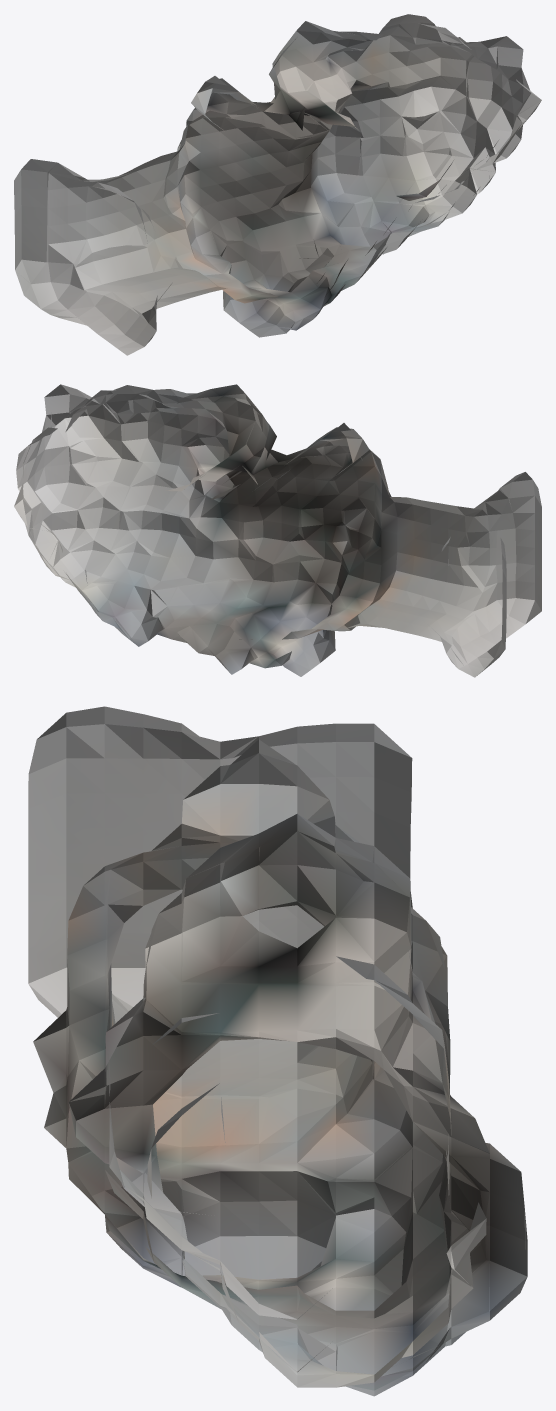
The model's file is knight.glb.
3 views of the same model, one above another, from view 1: azimuth 30°, elevation 25°; view 2: azimuth 150°, elevation 25°; view 3: azimuth 270°, elevation 25° (orthographic). The views are drawn at different scales.
Parts seen in each view (by area): view 1: world; view 2: world; view 3: world.
Part boxes in pixels (box(x1,y1,x2,y2)): world: box(14, 14, 541, 355); world: box(14, 384, 541, 677); world: box(28, 706, 527, 1396).
Size of the model in its own units: 1.04 by 0.5518 by 0.4802.
